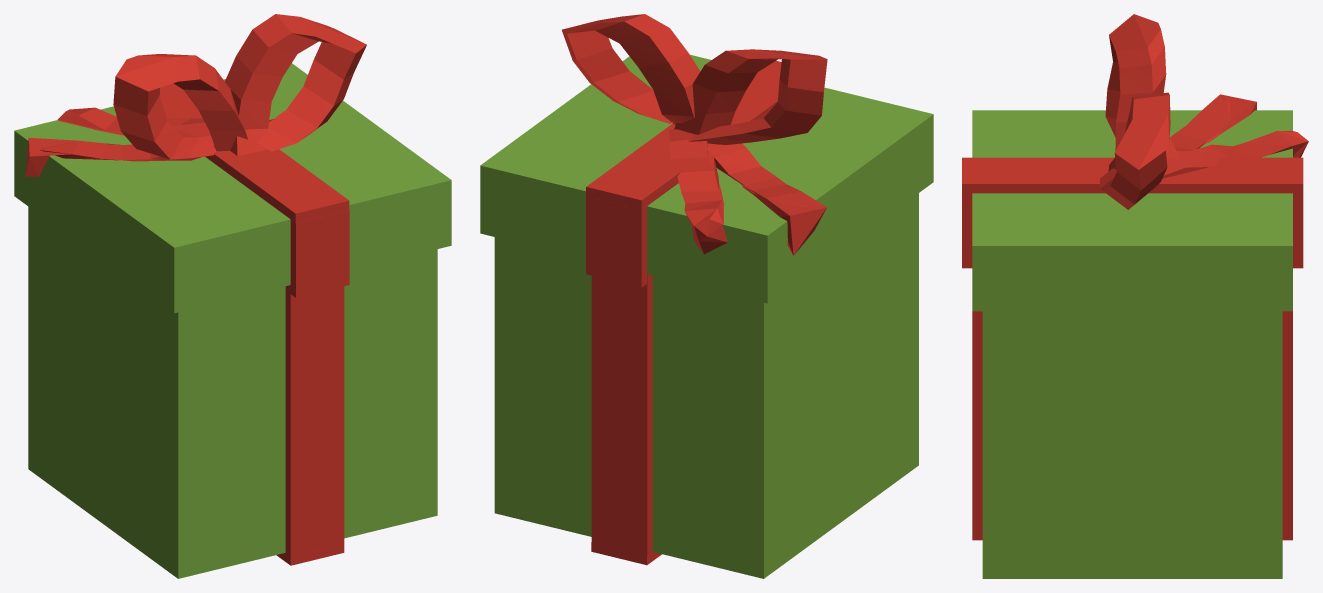
Rendered from present_2.gltf.
3 views of the same model, side by side, from view 1: azimuth 30°, elevation 25°; view 2: azimuth 150°, elevation 25°; view 3: azimuth 270°, elevation 25° (orthographic). The views are drawn at different scales.
Visible parts, largest first — view 1: node_MeshObject-23165952-PolyPaper21; view 2: node_MeshObject-23165952-PolyPaper21; view 3: node_MeshObject-23165952-PolyPaper21.
Part boxes in pixels (box(x1,y1,x2,y2)): node_MeshObject-23165952-PolyPaper21: box(14, 14, 451, 578); node_MeshObject-23165952-PolyPaper21: box(480, 14, 933, 578); node_MeshObject-23165952-PolyPaper21: box(962, 14, 1308, 578).
Bounding box in the file's own units: 0.3334 × 0.4905 × 0.3353.
